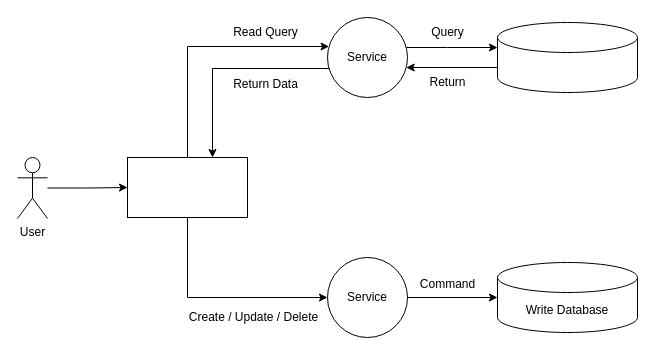
The diagram is 655 pixels wide and 355 high, and some of its shapes have lost their labels. The centre of each missing label's shape, as x and y in pixels:
"Read Database" goes at (x=567, y=57).
"User Interace" goes at (x=187, y=187).
